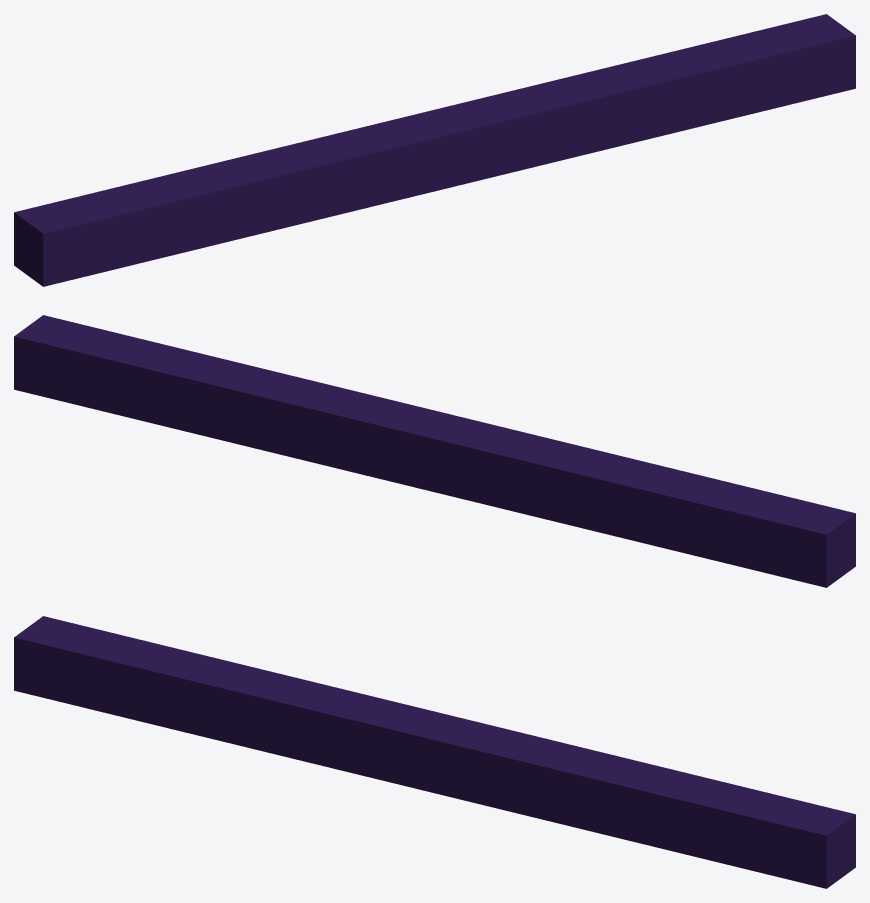
File: MetalFrameType1_Horizontal.fbx
3 renders of one model, top to bottom at view 1: azimuth 30°, elevation 25°; view 2: azimuth 150°, elevation 25°; view 3: azimuth 330°, elevation 25°, orthographic.
Parts seen in each view (by area): view 1: Cube.001; view 2: Cube.001; view 3: Cube.001.
Boxes of the visible parts, <box> form: Cube.001: <box>14,14,855,286</box>; Cube.001: <box>14,315,855,587</box>; Cube.001: <box>14,616,855,888</box>.
Bounding box in the file's own units: 32 × 2 × 2.
